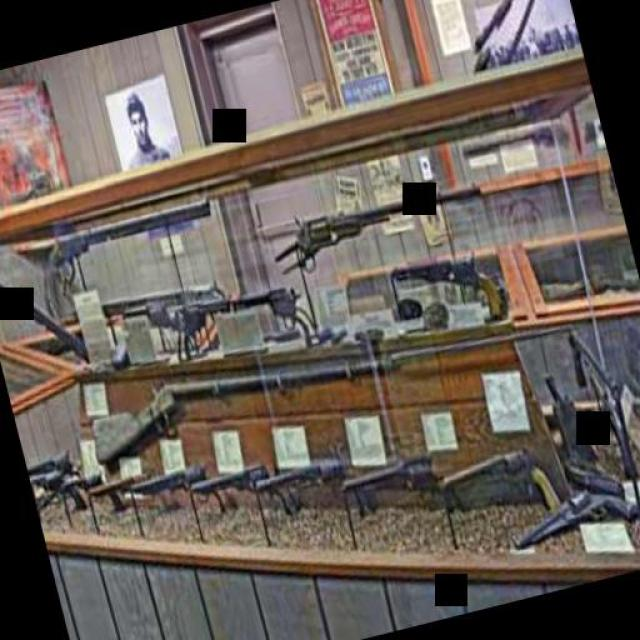gun: (418, 412, 568, 562), (251, 426, 374, 579), (329, 428, 461, 562), (181, 420, 304, 560), (208, 245, 332, 373), (124, 442, 238, 554), (20, 430, 85, 534)
